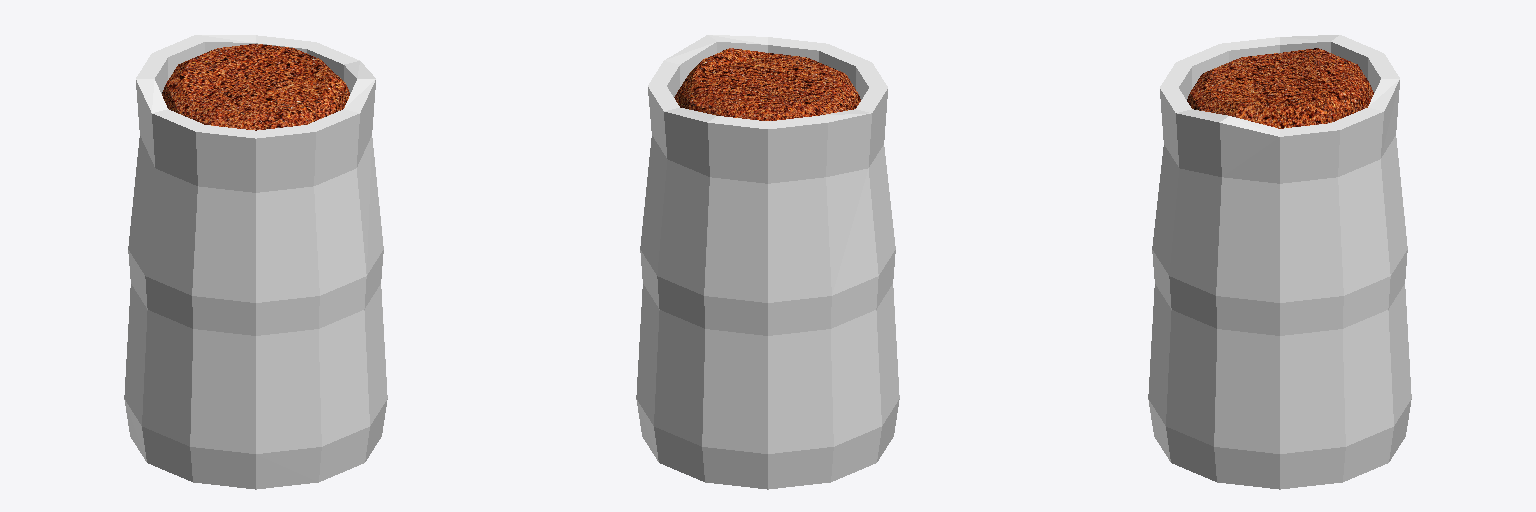
3 views of the same model, side by side, from view 1: azimuth 30°, elevation 25°; view 2: azimuth 150°, elevation 25°; view 3: azimuth 270°, elevation 25° (orthographic).
Parts seen in each view (by area): view 1: Form10; view 2: Form10; view 3: Form10.
Part boxes in pixels (x1,y1,x2,y2): Form10: (124,35,387,489); Form10: (636,35,899,489); Form10: (1148,35,1411,489).
Bounding box in the file's own units: 2.49 × 3.76 × 2.49.
2 materials, 1 textured.